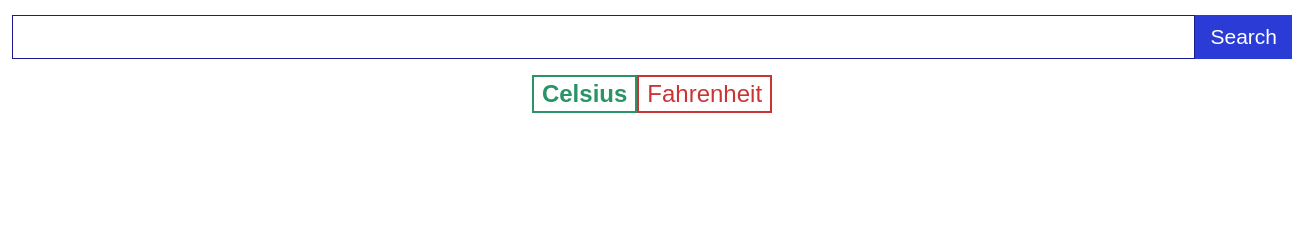
Test: Forecast › Should show the Error component with "It is impossible to get the data, contact the copyright holder" when access denied (403)
Type "San-francisco" into the field with test id "search-input" at (604, 37), box [12,15,1196,59]
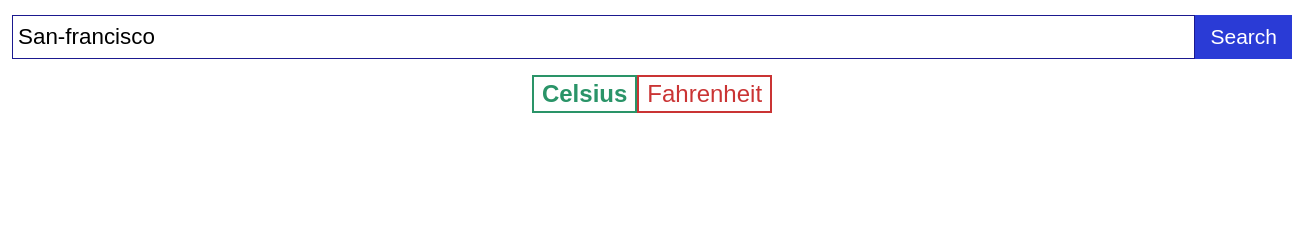
Submit the form with test id "forecast-form", box [12,15,1292,113]
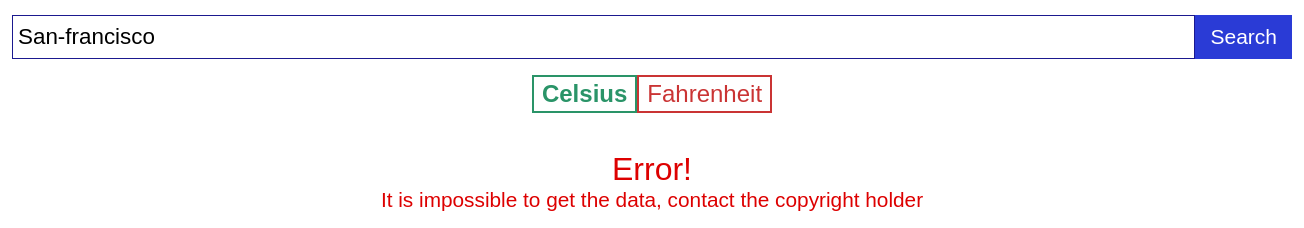
Now the text "It is impossible to get the data, contact the copyright holder" is shown, box [381,190,923,211]
